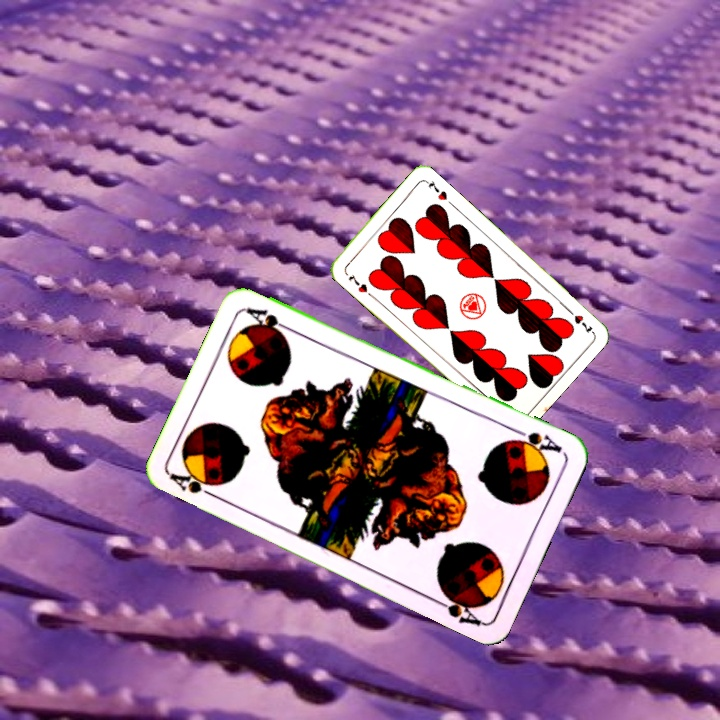H7: (563, 304, 596, 336), (345, 269, 370, 295)
SA: (166, 466, 223, 502), (507, 424, 565, 458)
